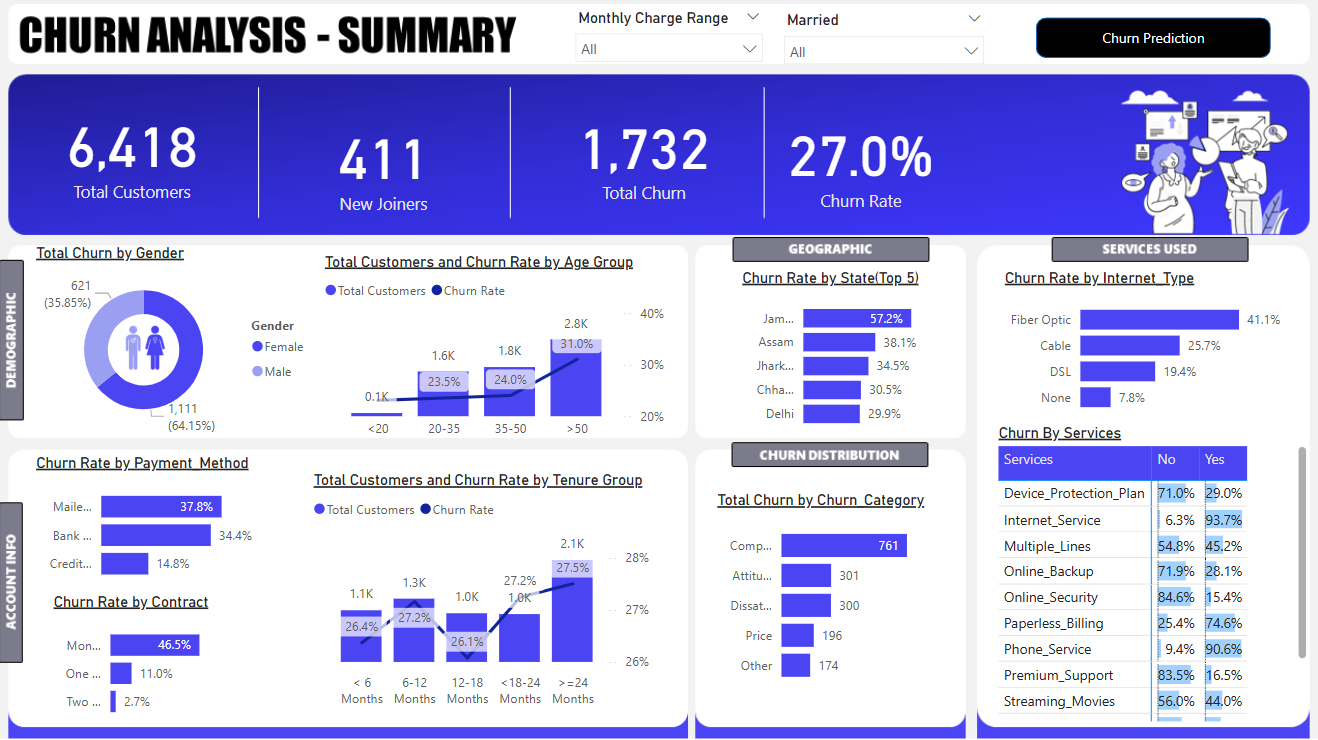

This screenshot's page, from the dashboard's own definition file:
{"tool":"powerbi","page":{"name":"Summary","canvas":[1280,720],"ordinal":0},"visuals":[{"type":"image","box":[109.8,307.6,68.8,63.9],"z":0},{"type":"card","fields":{"Values":["tbl_Measures.Total Customers"]},"box":[33.8,79.6,195.4,143.6],"z":1000},{"type":"card","fields":{"Values":["tbl_Measures.New Joiners"]},"box":[279.9,77.2,188.2,171.3],"z":2000},{"type":"card","fields":{"Values":["tbl_Measures.Total Churn"]},"box":[524.8,53.1,201.5,199.1],"z":3000},{"type":"card","fields":{"Values":["tbl_Measures.Churn Rate"]},"box":[726.3,41,217.2,237.7],"z":4000},{"type":"donutChart","fields":{"Category":["prod_Churn.Gender"],"Y":["tbl_Measures.Total Churn"]},"box":[33.8,240.1,278.7,188.2],"z":5000},{"type":"lineStackedColumnComboChart","fields":{"Category":["mapping_AgeGrp.Age Group"],"Y":["tbl_Measures.Total Customers"],"Y2":["tbl_Measures.Churn Rate"]},"box":[312.5,248.5,337.8,188.2],"z":6000},{"type":"clusteredBarChart","fields":{"Category":["prod_Churn.Payment_Method"],"Y":["tbl_Measures.Churn Rate"]},"box":[33.8,442.8,222,133.9],"z":7000},{"type":"clusteredBarChart","fields":{"Category":["prod_Churn.Contract"],"Y":["tbl_Measures.Churn Rate"]},"box":[50.7,576.7,187,132.7],"z":8000},{"type":"lineStackedColumnComboChart","fields":{"Category":["mapping_TenureGrp.Custom"],"Y":["tbl_Measures.Total Customers"],"Y2":["tbl_Measures.Churn Rate"]},"box":[301.6,459.7,334.2,235.3],"z":9000},{"type":"clusteredBarChart","title":"Churn Rate by State(Top 5)","fields":{"Category":["prod_Churn.State"],"Y":["tbl_Measures.Churn Rate"]},"box":[715.4,264.2,205.1,164.1],"z":10000},{"type":"clusteredBarChart","fields":{"Category":["prod_Churn.Churn_Category"],"Y":["tbl_Measures.Total Churn"]},"box":[691.3,479,217.2,196.6],"z":11000},{"type":"clusteredBarChart","fields":{"Category":["prod_Churn.Internet_Type"],"Y":["tbl_Measures.Churn Rate"]},"box":[968.8,264.2,281.1,149.6],"z":12000},{"type":"pivotTable","title":"Churn By Services","fields":{"Rows":["prod_Services.Services"],"Columns":["prod_Services.Status"],"Values":["Sum(prod_Services.Churn Status)"]},"box":[962.7,413.8,307.6,292],"z":13000},{"type":"slicer","fields":{"Values":["prod_Churn.Monthly Charge Status"]},"box":[549.1,8.1,201,64.8],"z":14000},{"type":"slicer","fields":{"Values":["prod_Churn.Married"]},"box":[750.1,10.8,213.2,60.7],"z":15000},{"type":"shape","box":[1003.7,21.6,226.6,39.1],"z":15001}]}

Visuals, with their boxes in screenshot pixels (x1, y1, x2, y2), scaled from the page's 1280x720 canvas onto the 1318x740 screenshot:
image: 113:316:184:382
card - tbl_Measures.Total Customers: 35:82:236:229
card - tbl_Measures.New Joiners: 288:79:482:255
card - tbl_Measures.Total Churn: 540:55:748:259
card - tbl_Measures.Churn Rate: 748:42:972:286
donutChart - prod_Churn.Gender x tbl_Measures.Total Churn: 35:247:322:440
lineStackedColumnComboChart - mapping_AgeGrp.Age Group x tbl_Measures.Total Customers: 322:255:670:449
clusteredBarChart - prod_Churn.Payment_Method x tbl_Measures.Churn Rate: 35:455:263:593
clusteredBarChart - prod_Churn.Contract x tbl_Measures.Churn Rate: 52:593:245:729
lineStackedColumnComboChart - mapping_TenureGrp.Custom x tbl_Measures.Total Customers: 311:472:655:714
"Churn Rate by State(Top 5)" clusteredBarChart: 737:272:948:440
clusteredBarChart - prod_Churn.Churn_Category x tbl_Measures.Total Churn: 712:492:935:694
clusteredBarChart - prod_Churn.Internet_Type x tbl_Measures.Churn Rate: 998:272:1287:425
"Churn By Services" pivotTable: 991:425:1308:725
slicer - prod_Churn.Monthly Charge Status: 565:8:772:75
slicer - prod_Churn.Married: 772:11:992:73
shape: 1033:22:1267:62
